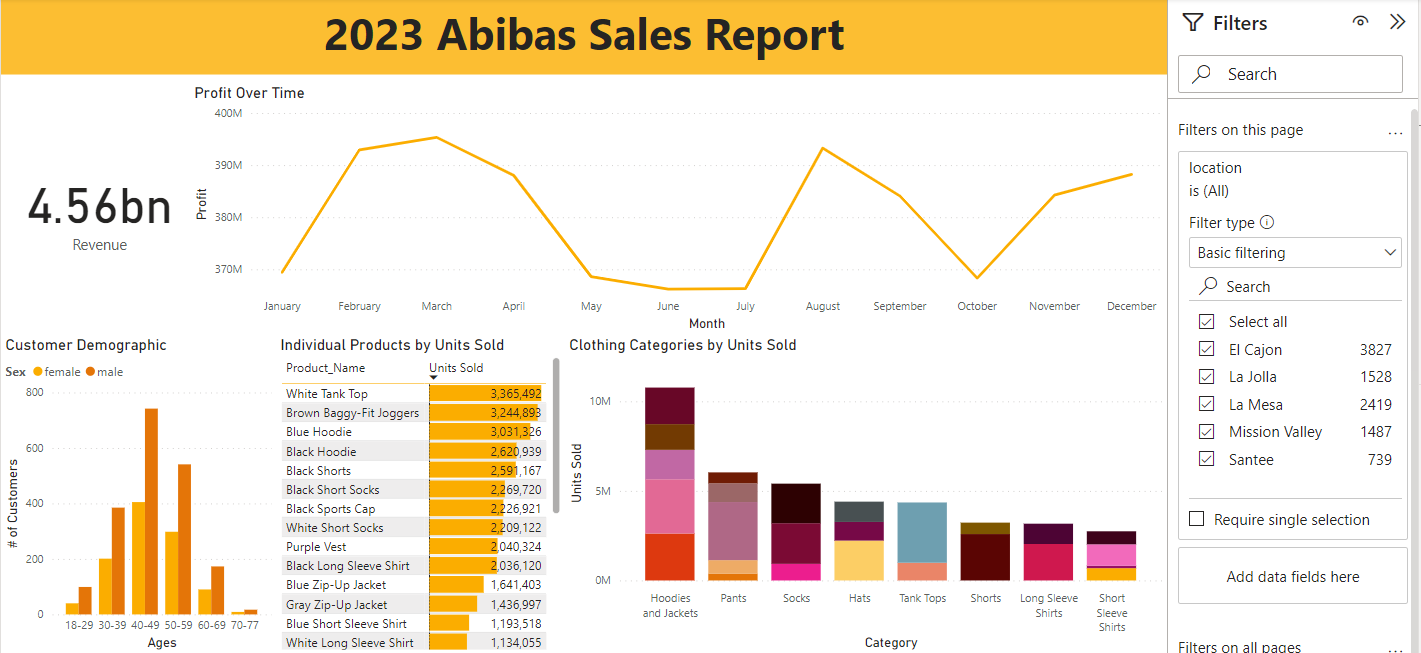

The page's visual inventory and layout, read from the dashboard file:
{"tool":"powerbi","page":{"name":"Report","canvas":[1280,720],"ordinal":0},"visuals":[{"type":"textbox","box":[0,0,1280.3,83.7],"z":0},{"type":"card","fields":{"Values":["sales.total profit"]},"box":[0,93.3,216.8,277.2],"z":1000},{"type":"lineChart","title":"Profit Over Time","fields":{"Category":["sales.date.Variation.Date Hierarchy.Month"],"Y":["sales.profit"]},"box":[207.2,93.3,1073.1,277.2],"z":2000},{"type":"columnChart","title":"Clothing Categories by Units Sold","fields":{"Category":["store.Category","store.Product_Name"],"Y":["Sum(sales.units sold)"],"Series":["store.Product_Name"]},"box":[618.9,370.5,661.4,349.9],"z":3000},{"type":"clusteredColumnChart","title":"Customer Demographic","fields":{"Category":["customer.age groups"],"Series":["customer.sex"],"Y":["customer.CountofAge"]},"box":[0,370.5,301.9,349.9],"z":4000},{"type":"tableEx","title":"Individual Products by Units Sold","fields":{"Values":["store.Product_Name","Sum(sales.units sold)"]},"box":[301.9,370.5,317,349.9],"z":5000}]}

Visuals, with their boxes on the page's 1280x720 design canvas (x1, y1, x2, y2). These are canvas units, not pixel positions in the 1421x653 screenshot, which may show the page scaled, cropped or inside an application window:
textbox: (0,0,1280,84)
card - sales.total profit: (0,93,217,370)
"Profit Over Time" lineChart: (207,93,1280,370)
"Clothing Categories by Units Sold" columnChart: (619,370,1280,720)
"Customer Demographic" clusteredColumnChart: (0,370,302,720)
"Individual Products by Units Sold" tableEx: (302,370,619,720)
